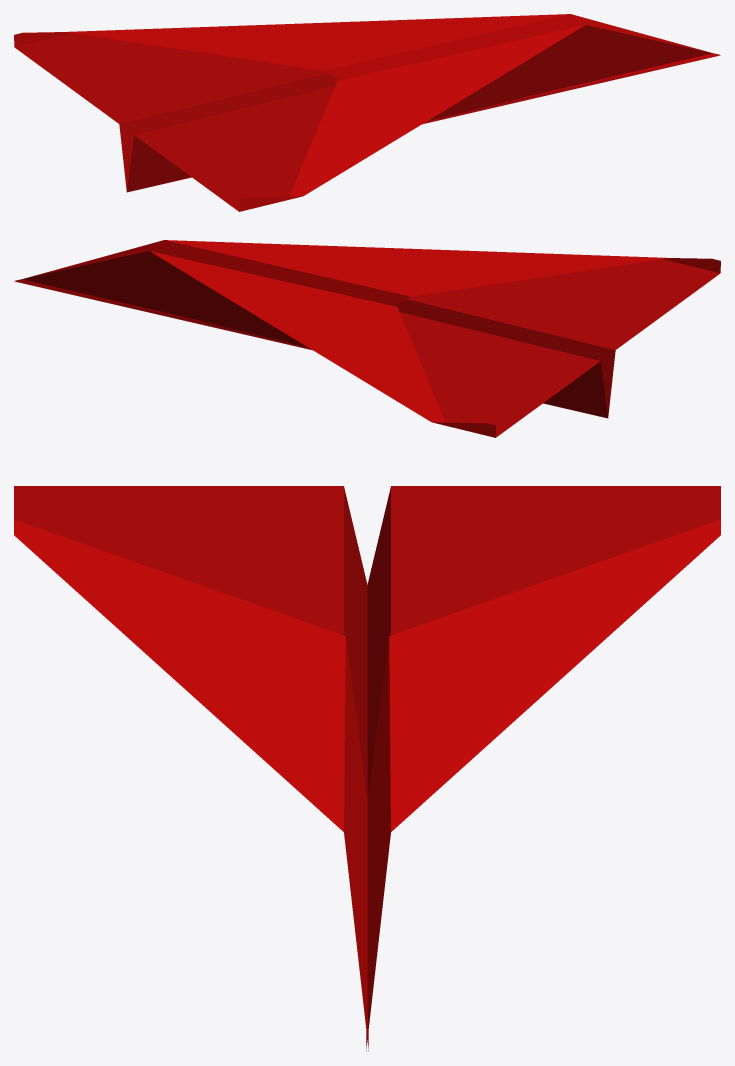
The model's file is PaperPlane.fbx.
3 views of the same model, one above another, from view 1: azimuth 30°, elevation 25°; view 2: azimuth 150°, elevation 25°; view 3: azimuth 270°, elevation 25° (orthographic). The views are drawn at different scales.
Visible parts, largest first — view 1: Plane; view 2: Plane; view 3: Plane.
Part boxes in pixels (x1=…): Plane: x1=14, y1=14, x2=720, y2=211; Plane: x1=14, y1=240, x2=720, y2=437; Plane: x1=14, y1=486, x2=720, y2=1051.
Size of the model in its own units: 202 by 26.86 by 132.
